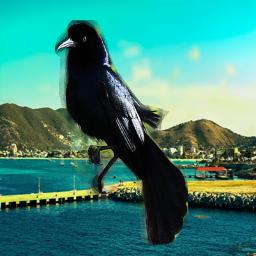Crow: (55, 20, 188, 245)
